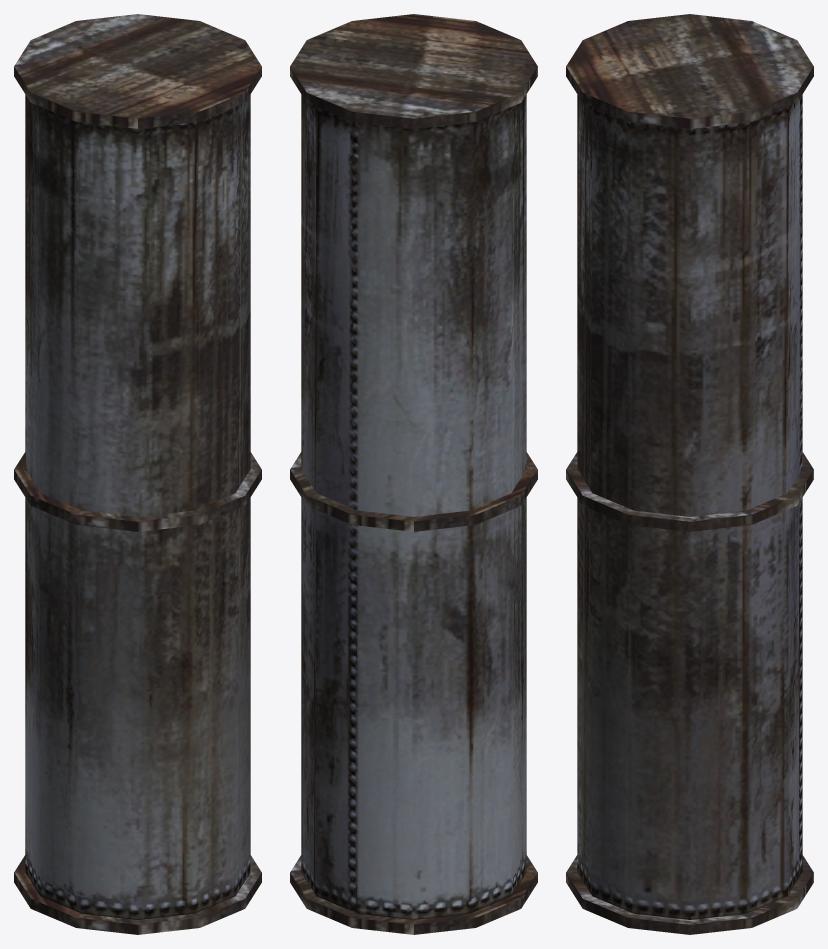
File: ventilation_pipe_4m.DAE
3 renders of one model, left to right at view 1: azimuth 30°, elevation 25°; view 2: azimuth 150°, elevation 25°; view 3: azimuth 270°, elevation 25°, orthographic.
Parts seen in each view (by area): view 1: Cylinder004; view 2: Cylinder004; view 3: Cylinder004.
Part boxes in pixels (box(x1,y1,x2,y2)): Cylinder004: box(14, 14, 261, 934); Cylinder004: box(290, 14, 537, 934); Cylinder004: box(566, 14, 813, 934).
Bounding box in the file's own units: 1.1 × 4 × 1.1.
